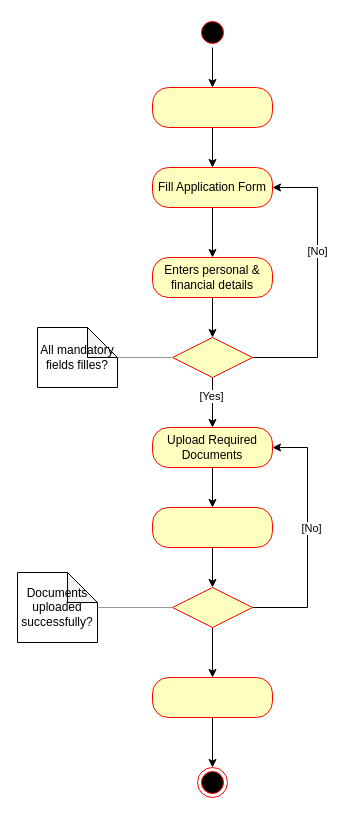
This 344x815 diagram has some shape labels left out. Here are the shapes that lost their labels. From the top down, the box of each, then its label:
(152, 86, 272, 128): Applicant logs into the system
(152, 506, 272, 548): Submit Applicatio
(152, 676, 272, 718): System Acknowledges Submission
